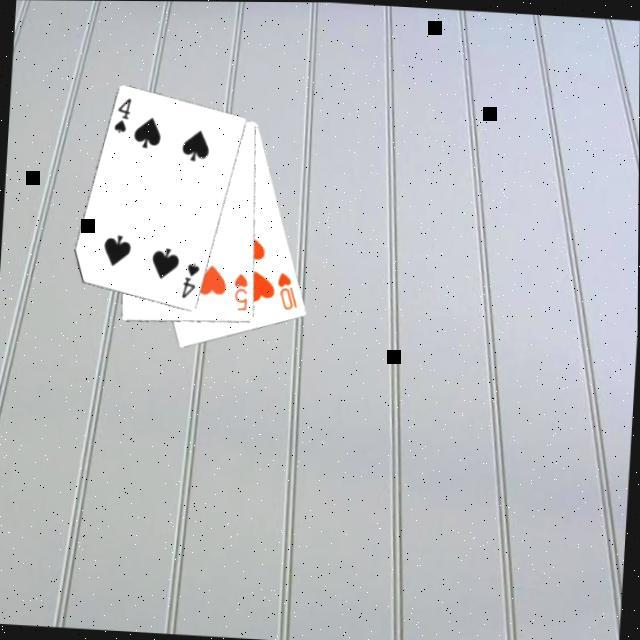10H: (273, 268, 301, 312)
4S: (178, 258, 202, 300), (110, 94, 134, 136)
5H: (230, 269, 252, 314)
